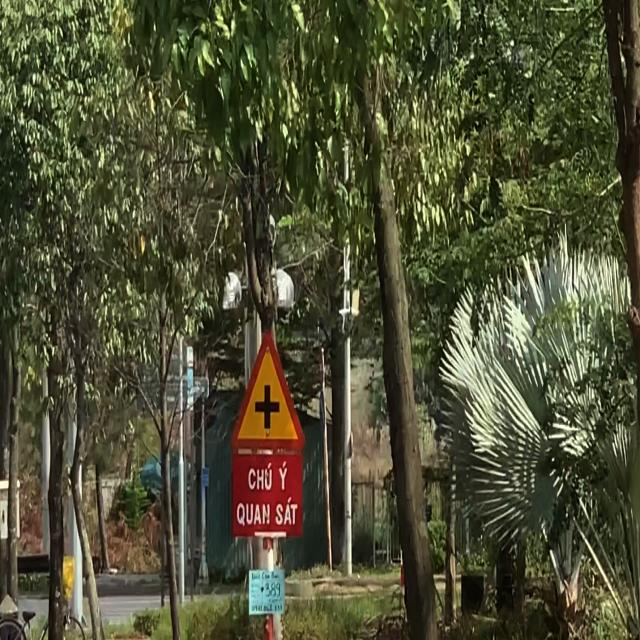Duong giao nhau: (229, 317, 309, 458)
